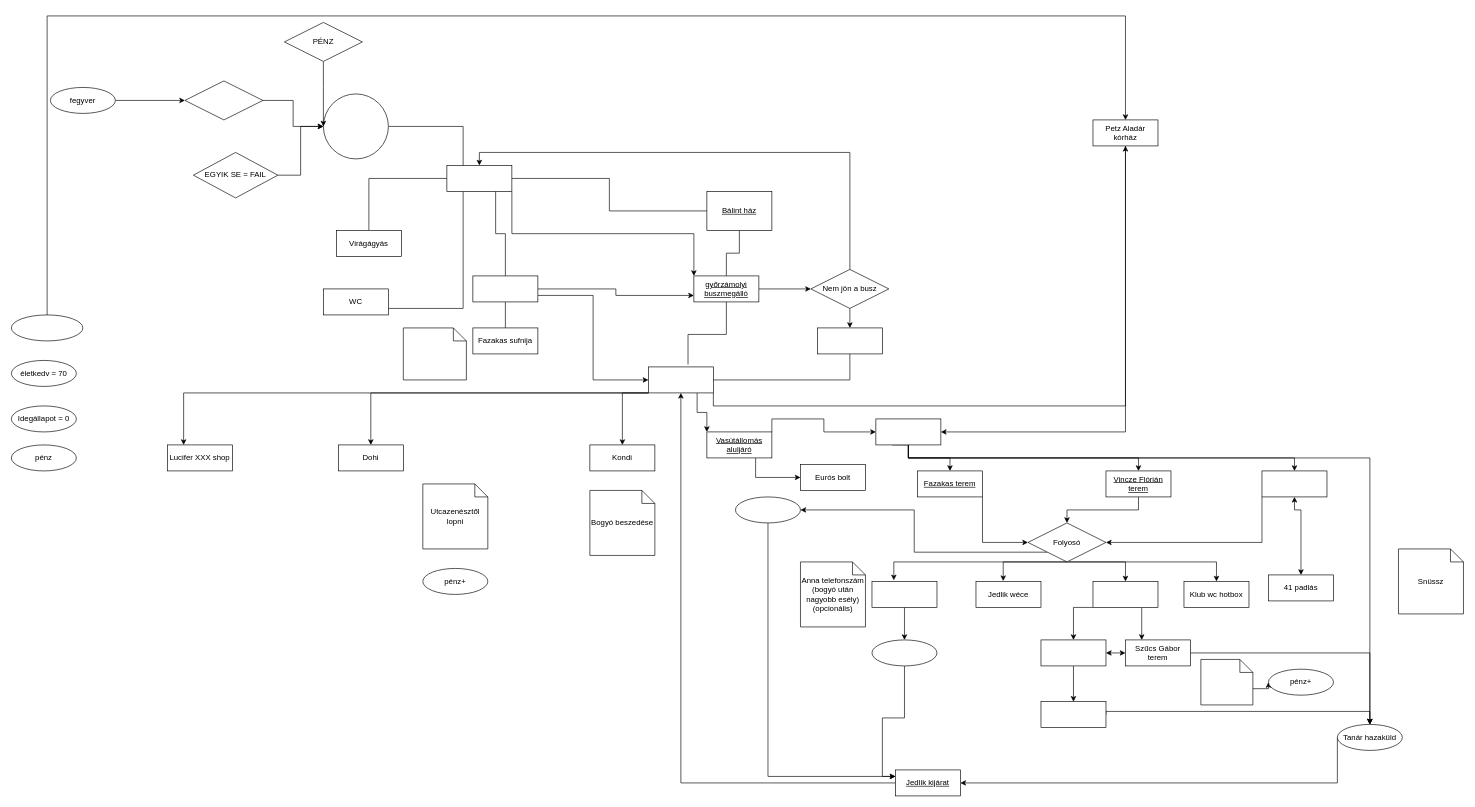
Image size: 1475x807. Some labels were removed from this diagram. The centre of each missing label's shape, as x and y in pixels:
"B épület átjáró" belongs at (x=1125, y=594).
"Büfé" belongs at (x=904, y=594).
"C# terem" belongs at (x=1294, y=483).
"dunaszeg" belongs at (x=505, y=288).
"HITEL TÖRLESZTÉSE" belongs at (x=355, y=126).
"Jedlik iskola" belongs at (x=908, y=431).
"Kiszöktet" belongs at (x=904, y=652).
"Multiméter ellopása" belongs at (x=1226, y=682).
"Mákvirág kocsma" belongs at (x=479, y=178).
"Németh Ádám terem" belongs at (x=1073, y=714).
"Orvosi igazolás" belongs at (x=767, y=509).
"random fegyver" belongs at (x=434, y=353).
"Tesi öltöző" belongs at (x=1073, y=652).
"Töltés" belongs at (x=849, y=340).
"VEREKEDÉS" belongs at (x=223, y=100).
"Vidéki" belongs at (x=680, y=379).
"Véralkoholszint = 0" belongs at (x=47, y=327).
